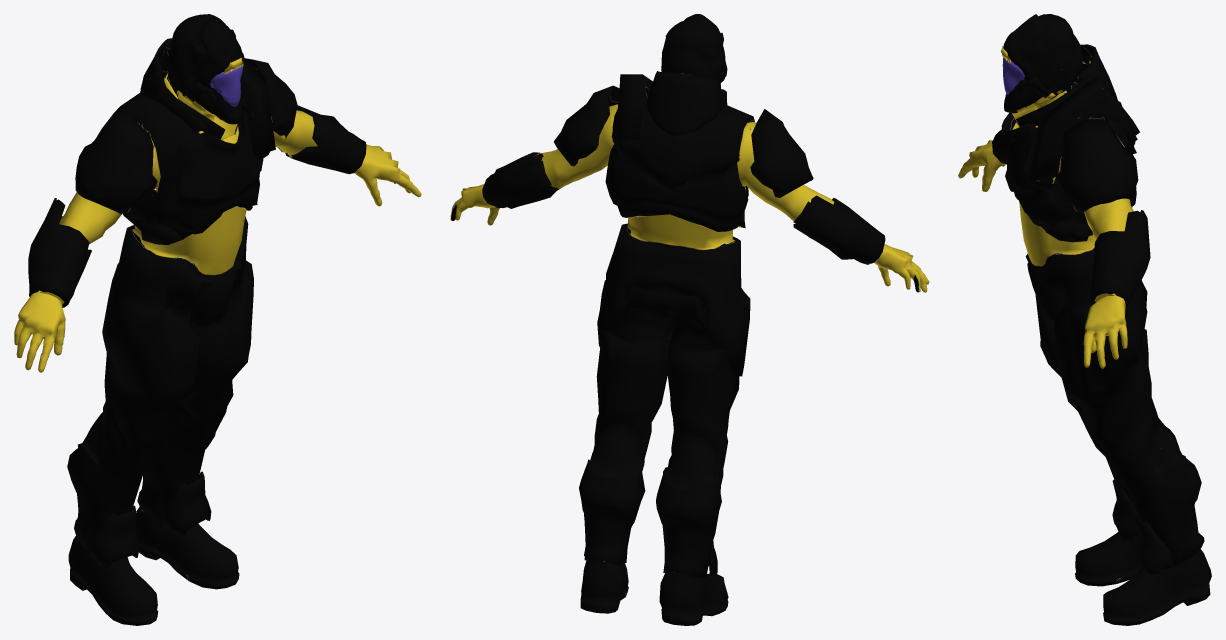
The model's file is objMesh.dae.
The picture shows the model from 3 angles, left to right: view 1: azimuth 30°, elevation 25°; view 2: azimuth 150°, elevation 25°; view 3: azimuth 270°, elevation 25°; orthographic projection. The views are drawn at different scales.
Visible parts, largest first — view 1: objMesh; view 2: objMesh; view 3: objMesh.
Boxes of the visible parts, x1,y1,x2,y2 form: objMesh: (14, 14, 421, 625); objMesh: (450, 14, 929, 625); objMesh: (958, 14, 1211, 625).
Bounding box in the file's own units: 0.561 × 0.721 × 0.2846.
2 materials, 2 textured.
